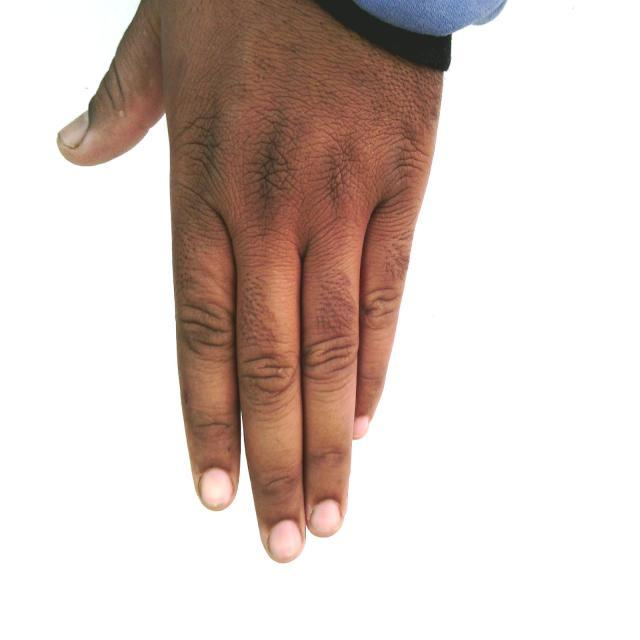Fingernail: (270, 520, 301, 561), (201, 470, 232, 508), (310, 500, 340, 535), (59, 114, 88, 148), (354, 417, 368, 439)
